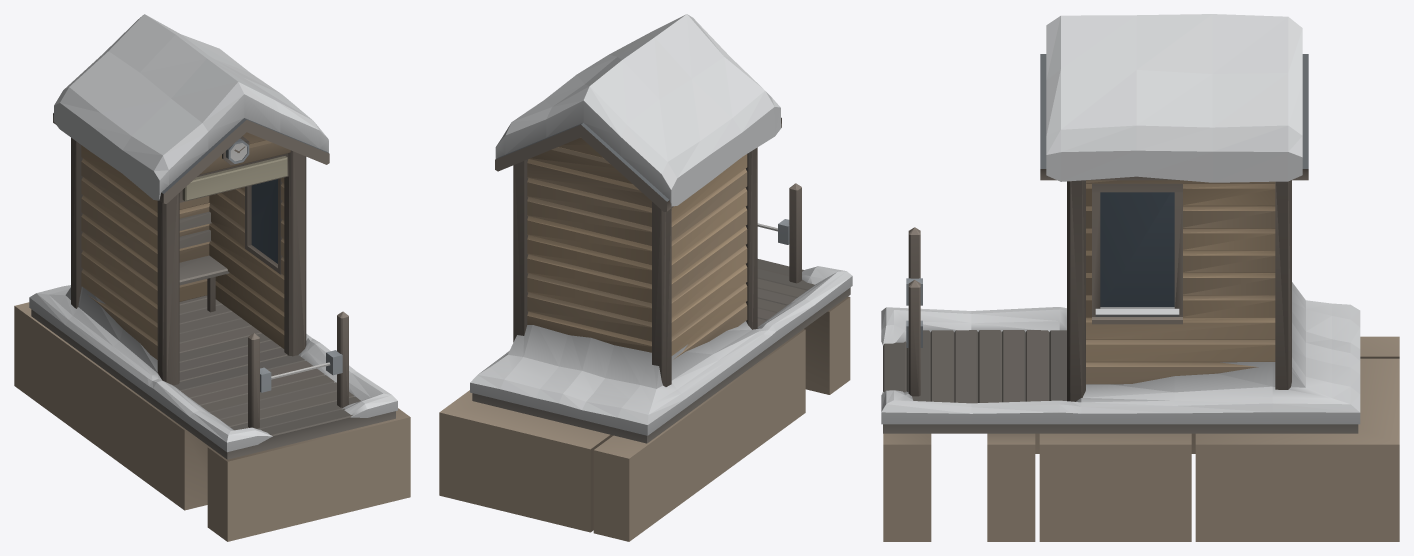
The model's file is starthut.glb.
3 renders of one model, left to right at view 1: azimuth 30°, elevation 25°; view 2: azimuth 150°, elevation 25°; view 3: azimuth 270°, elevation 25°, orthographic. The views are drawn at different scales.
Parts seen in each view (by area): view 1: starthut; view 2: starthut; view 3: starthut.
Part boxes in pixels (bbox=[...]): starthut: bbox=[14, 14, 410, 541]; starthut: bbox=[439, 14, 852, 541]; starthut: bbox=[881, 14, 1399, 541].
Size of the model in its own units: 2.48 by 4.98 by 4.98.
